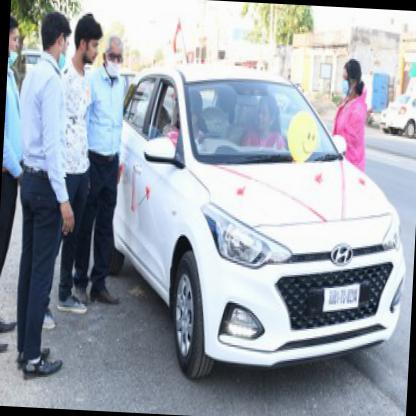car: (108, 60, 415, 390)
